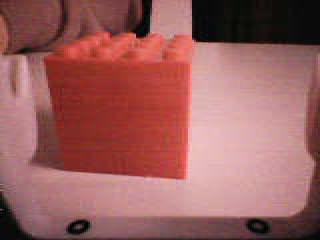legocube: (38, 30, 201, 186)
